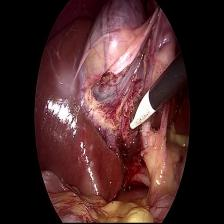Hook: (127, 90, 157, 134)
